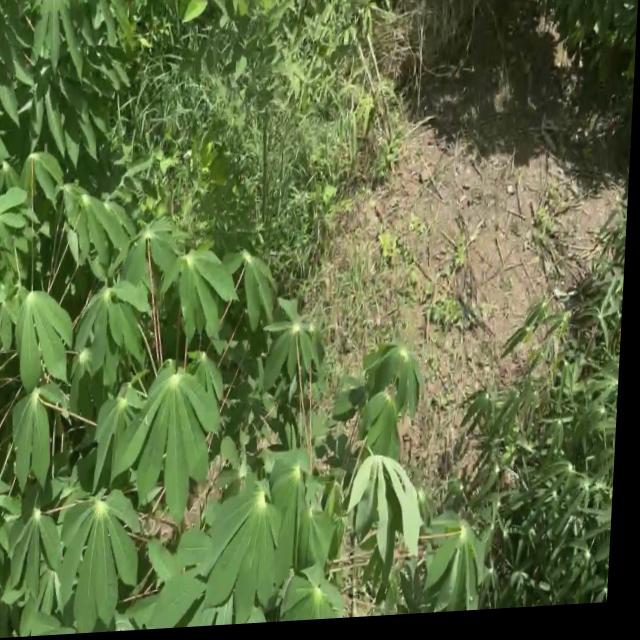Maleza: (169, 0, 380, 233)
Mosca: (38, 42, 58, 60)
